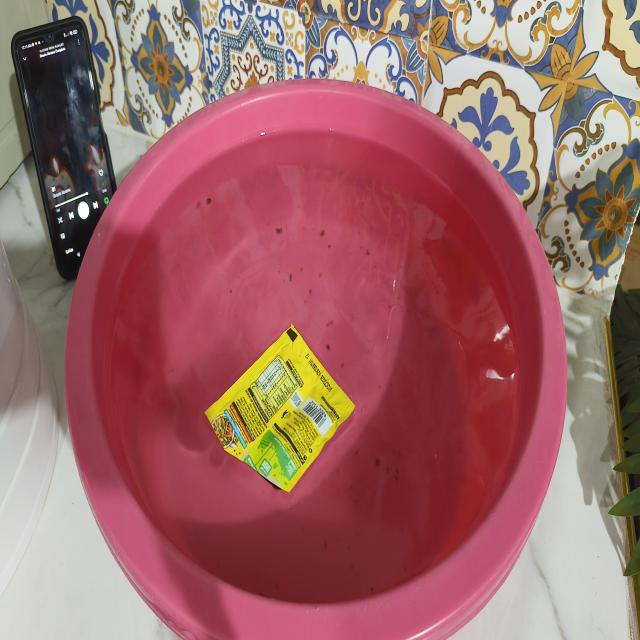Plastic Pouch: (206, 324, 355, 492)
